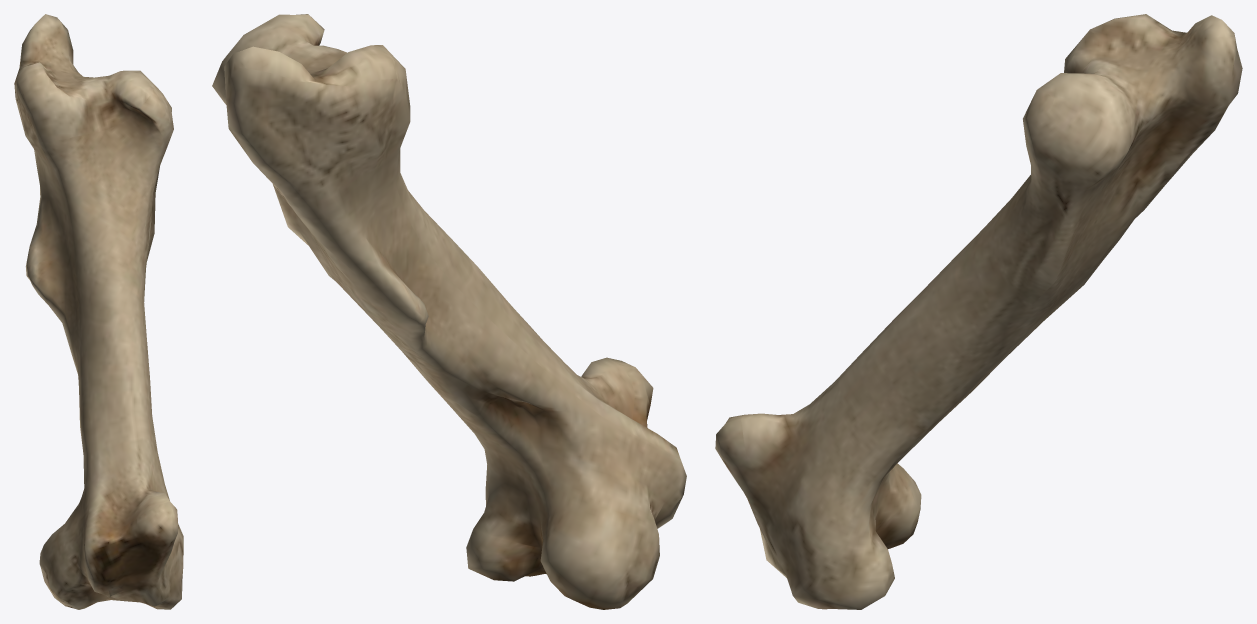
File: Femur.glb
The picture shows the model from 3 angles, left to right: view 1: azimuth 30°, elevation 25°; view 2: azimuth 150°, elevation 25°; view 3: azimuth 270°, elevation 25°; orthographic projection. The views are drawn at different scales.
Visible parts, largest first — view 1: R_Bck_Femur; view 2: R_Bck_Femur; view 3: R_Bck_Femur.
Boxes of the visible parts, left/top/right/bottom form: R_Bck_Femur: left=14, top=14, right=183, bottom=609; R_Bck_Femur: left=212, top=14, right=686, bottom=609; R_Bck_Femur: left=715, top=14, right=1242, bottom=609.
Bounding box in the file's own units: 0.1697 × 0.3715 × 0.2899.
Materials: 1 (1 with a texture image).
